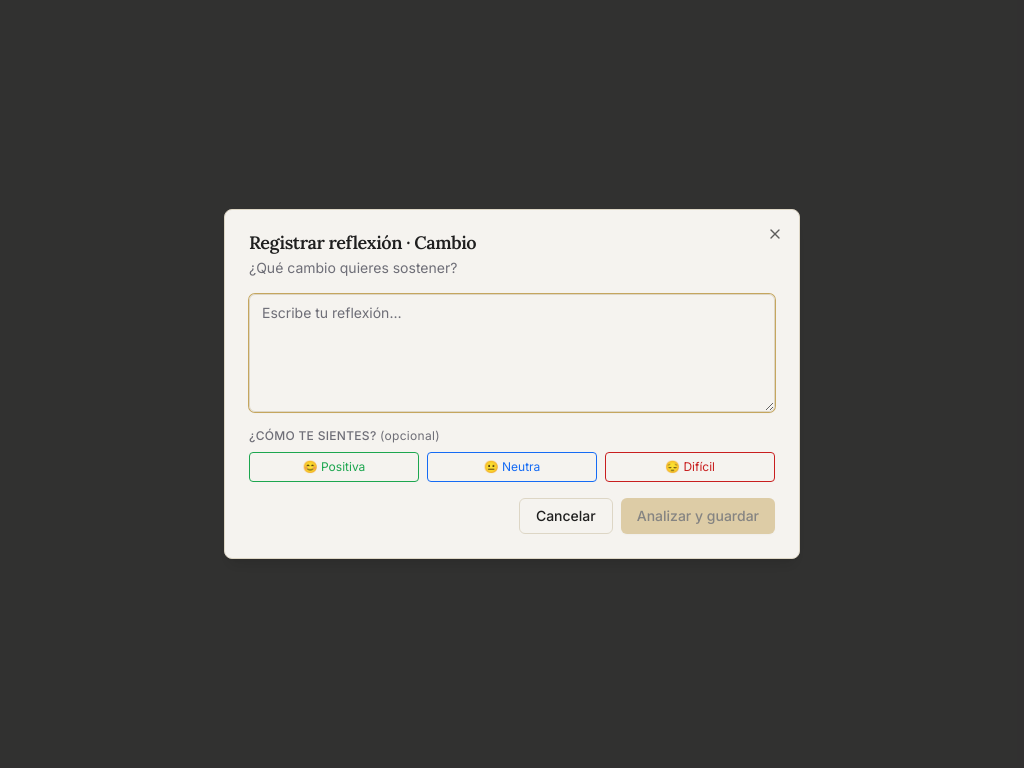
Test: CenterReflectionDialog › creates a normal journal reflection with optional emotion and shows the result
Expected: the text "¿Qué cambio quieres sostener?" is shown, 249,259 -> 457,276
Expected: the button "Analizar y guardar" is disabled, 621,498 -> 775,534
Type "  Estoy cambiando con calma.  " into the text box with test id "center-reflection-input" at (512, 353), box 249,294 -> 775,412
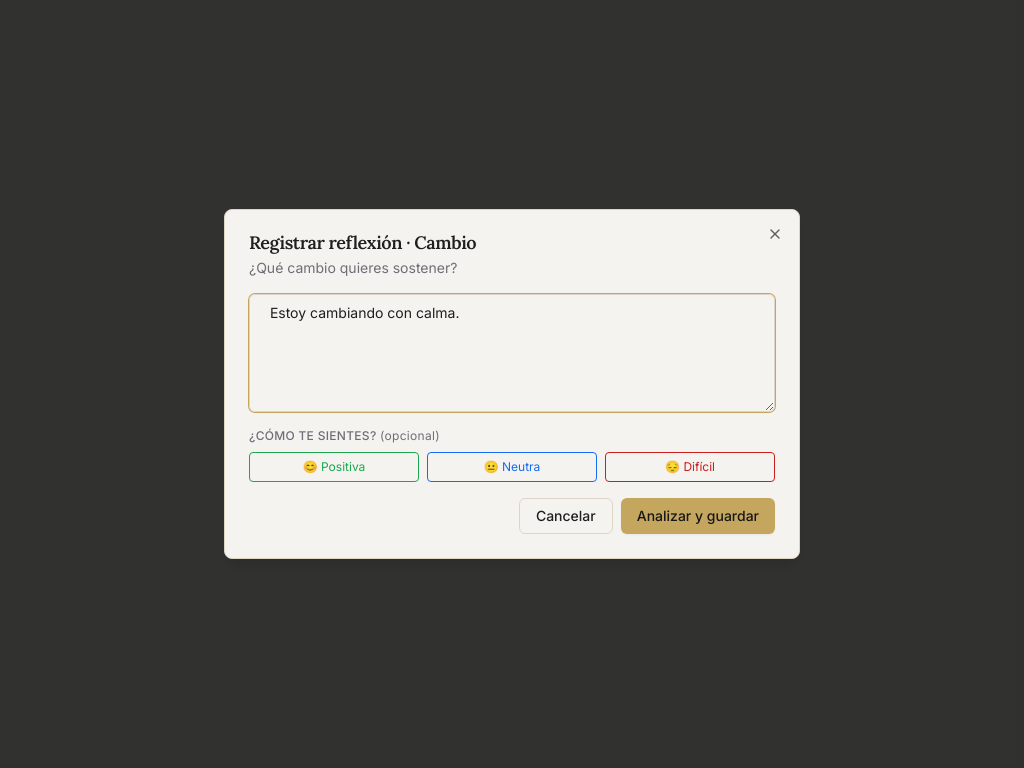
Click the button "😊 Positiva" at (334, 467), box 249,452 -> 419,482
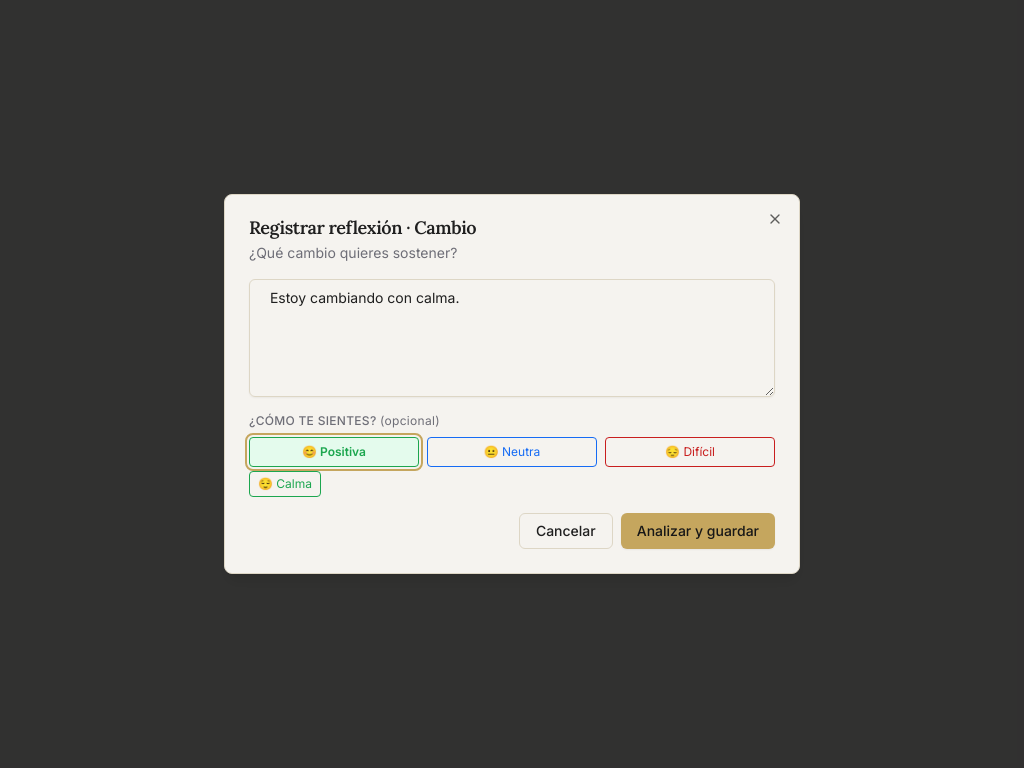
Click the button "😌 Calma" at (285, 484), box 249,471 -> 321,497
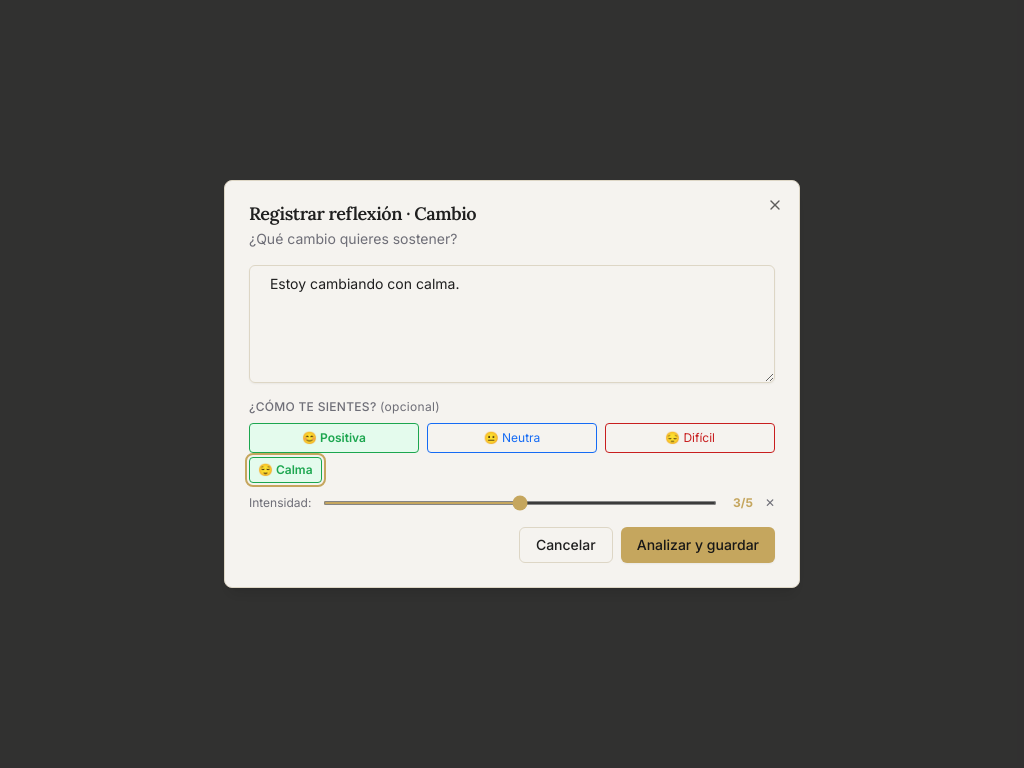
Click the button "Analizar y guardar" at (698, 545), box 621,527 -> 775,563
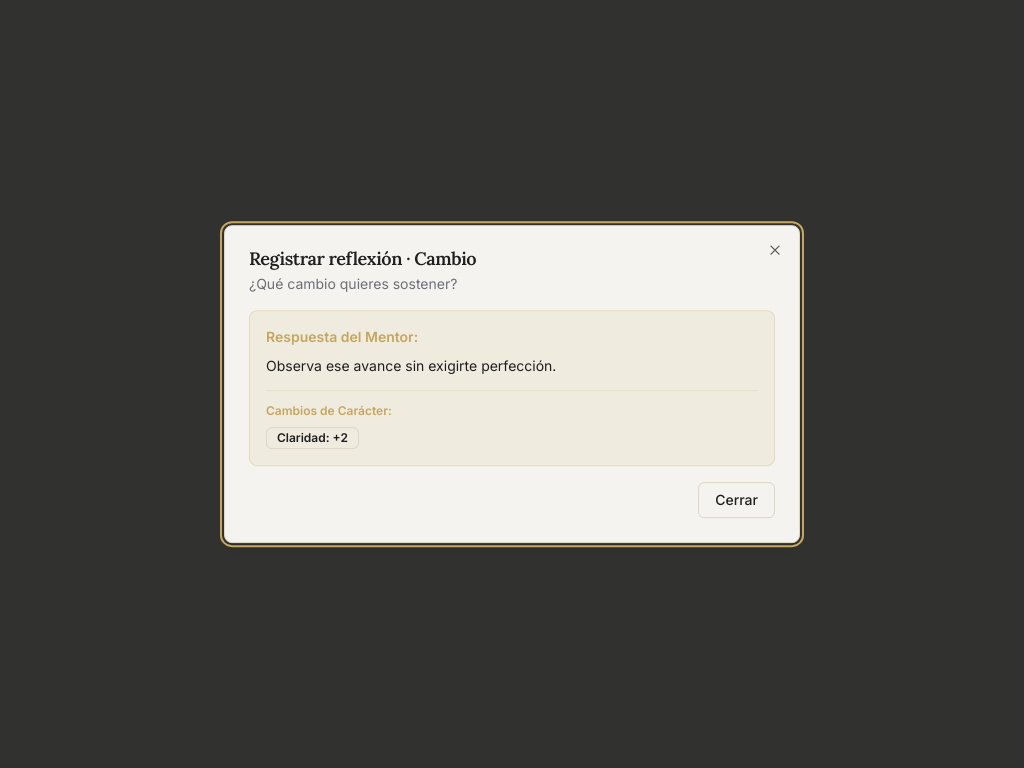
Result: the text "Observa ese avance sin exigirte perfección." is shown at 266,357 -> 556,374
Result: the text "Claridad: +2" is shown at 266,427 -> 359,449
